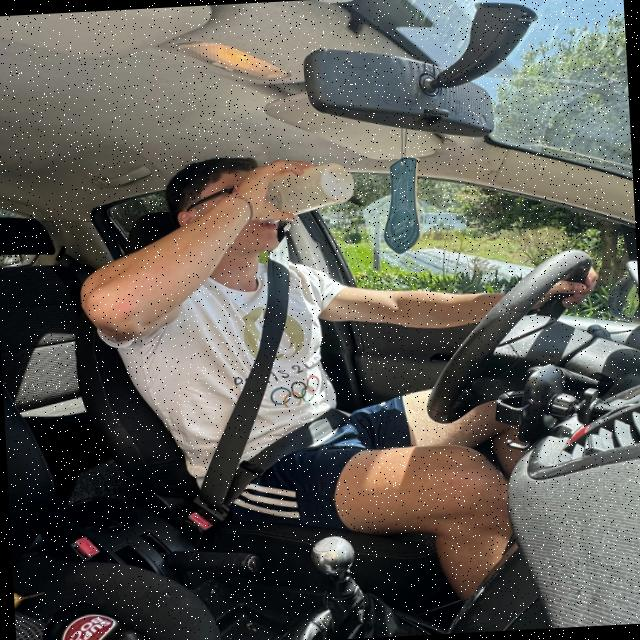Drinking: (204, 152, 372, 242)
Seatbelt: (148, 239, 428, 529)
